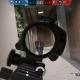Character: (35, 38, 44, 55)
Head: (37, 38, 41, 42)
